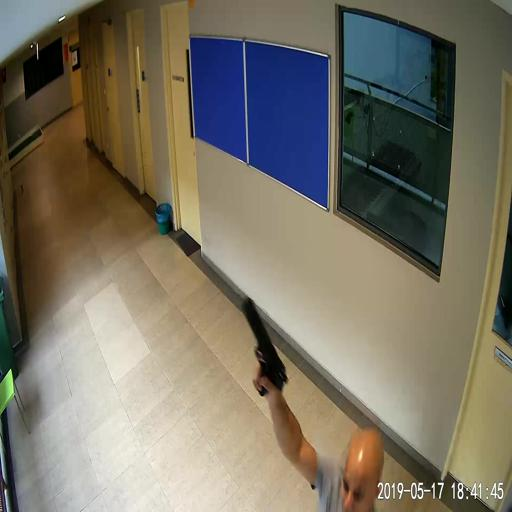pistol: (243, 295, 288, 398)
